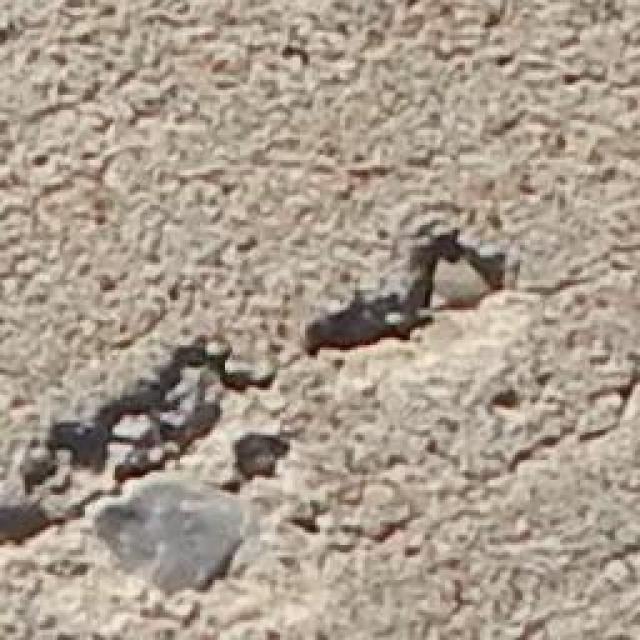concrete-crack: (0, 220, 639, 564), (502, 368, 640, 483), (221, 430, 299, 498)
